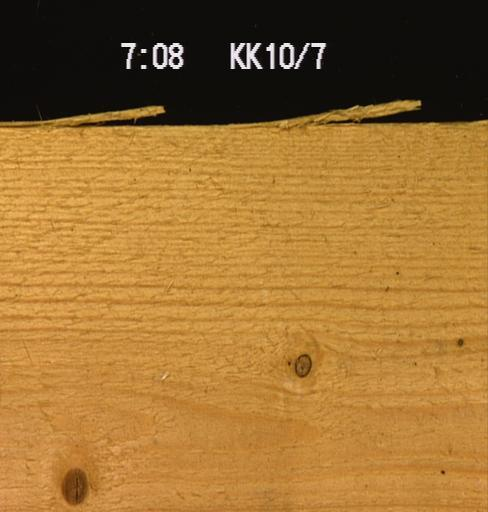dry_knot: (291, 350, 311, 379)
small_knot: (455, 337, 463, 345)
sound_knot: (60, 466, 88, 505)
